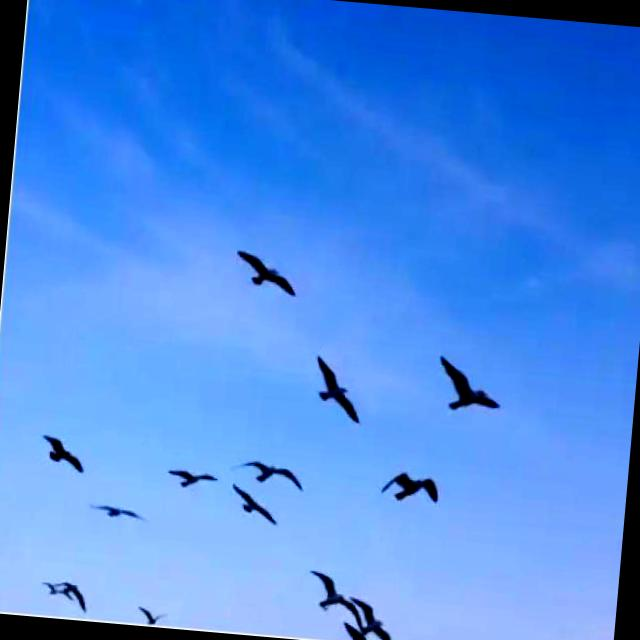bird: (438, 358, 503, 414), (314, 360, 362, 424), (304, 562, 356, 614), (235, 252, 297, 294), (383, 470, 440, 506), (356, 594, 395, 640), (240, 460, 302, 487), (40, 434, 82, 472), (236, 490, 276, 522), (165, 468, 218, 492), (90, 504, 144, 522), (63, 576, 88, 604), (137, 606, 164, 628), (40, 583, 66, 602)
